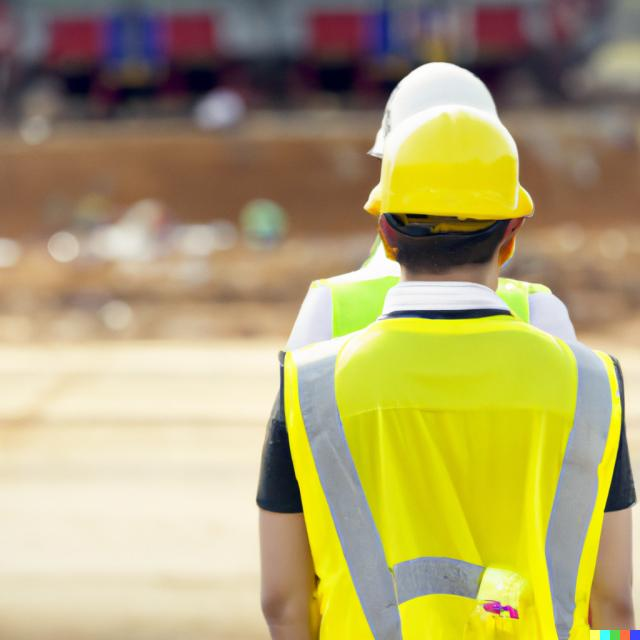Reflective-Jacket: (274, 302, 635, 640)
Safety-Helmet: (361, 107, 546, 228), (359, 60, 526, 164)
